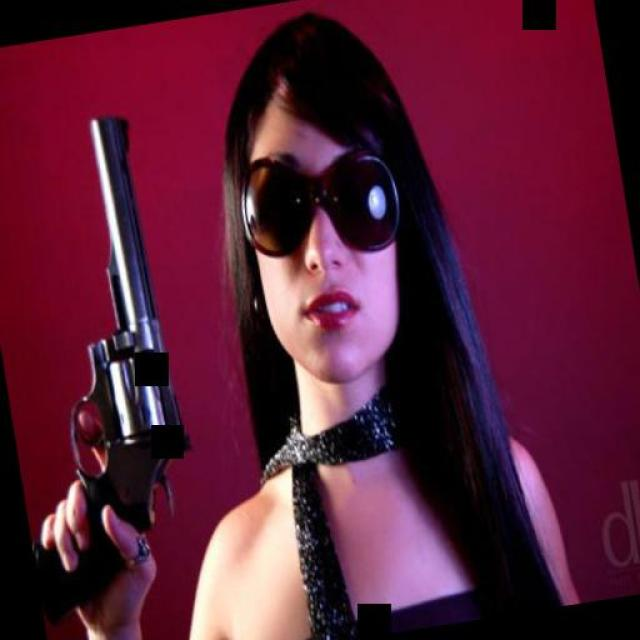gun: (0, 106, 216, 625)
